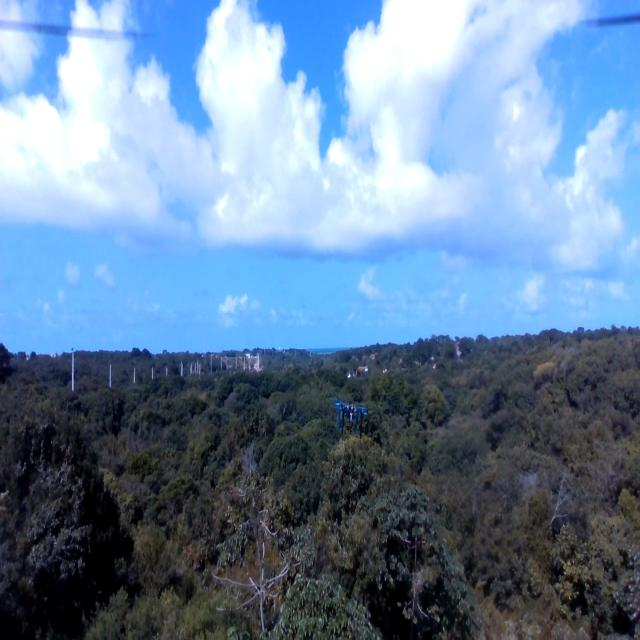-uav-: (334, 387, 374, 450)
